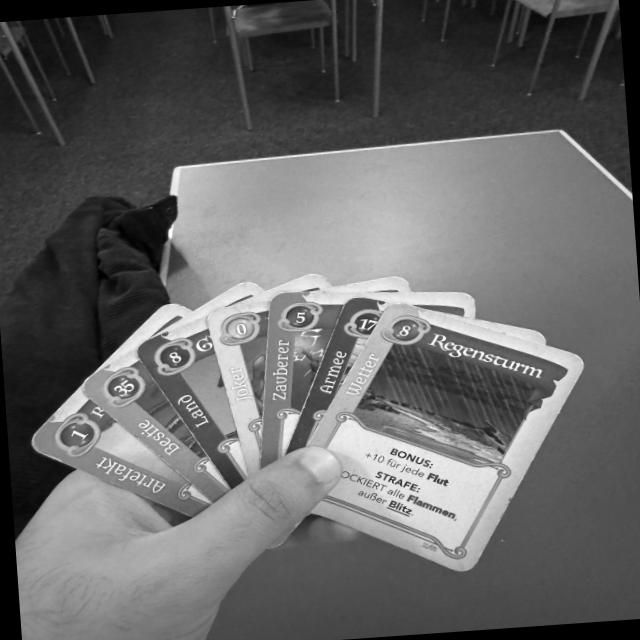Basilisk: (75, 351, 230, 501)
Clock Tower: (130, 315, 249, 488)
Doppelganger: (206, 300, 269, 476)
Elemental Enchantress: (259, 291, 349, 469)
Light Cavalry: (286, 295, 389, 451)
Rainstorm: (306, 300, 587, 573)
Rune Of Protection: (26, 387, 215, 517)
